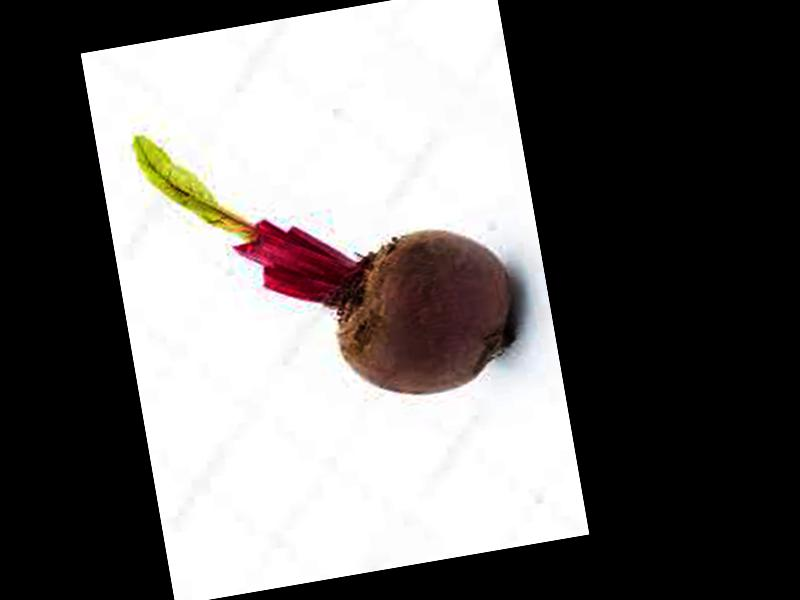Beet: (133, 81, 525, 436)
